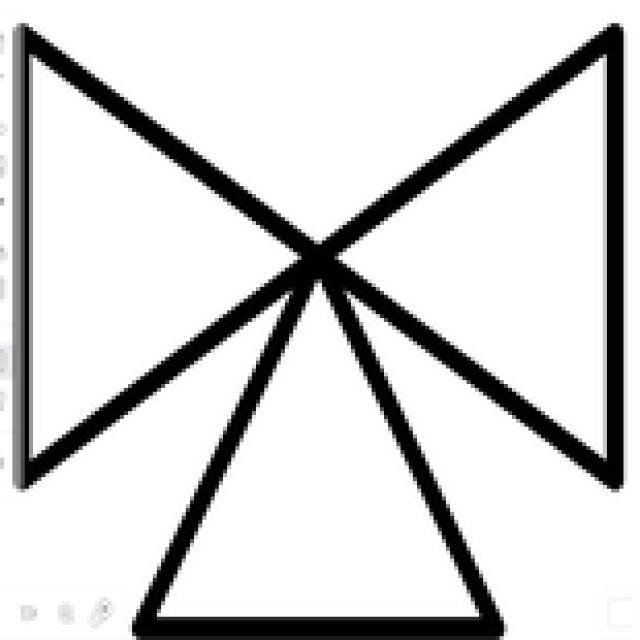3-way Valve: (325, 32, 617, 485), (22, 29, 312, 477), (142, 258, 493, 624)
